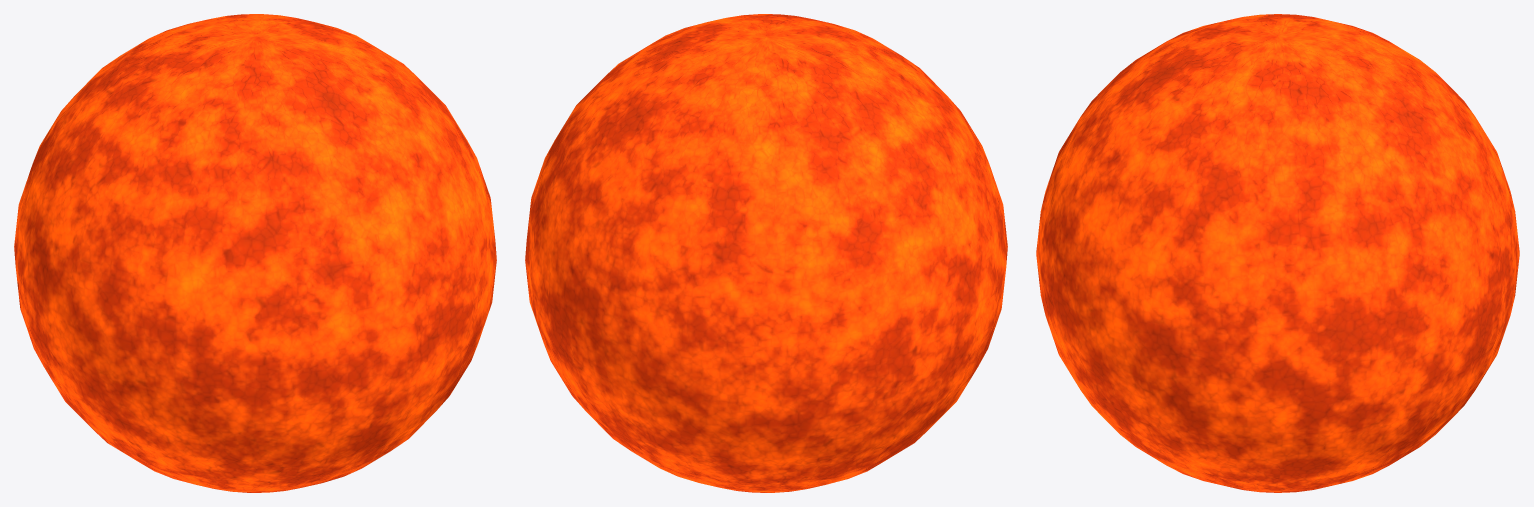
Rendered from planet-1.glb.
3 views of the same model, side by side, from view 1: azimuth 30°, elevation 25°; view 2: azimuth 150°, elevation 25°; view 3: azimuth 270°, elevation 25° (orthographic).
Visible parts, largest first — view 1: KOI55b; view 2: KOI55b; view 3: KOI55b.
Boxes of the visible parts, bbox=[...] form: KOI55b: bbox=[14, 14, 496, 492]; KOI55b: bbox=[525, 14, 1007, 492]; KOI55b: bbox=[1036, 14, 1519, 492].
Size of the model in its own units: 1.54 by 1.52 by 1.54.
Materials: 1 (1 with a texture image).
